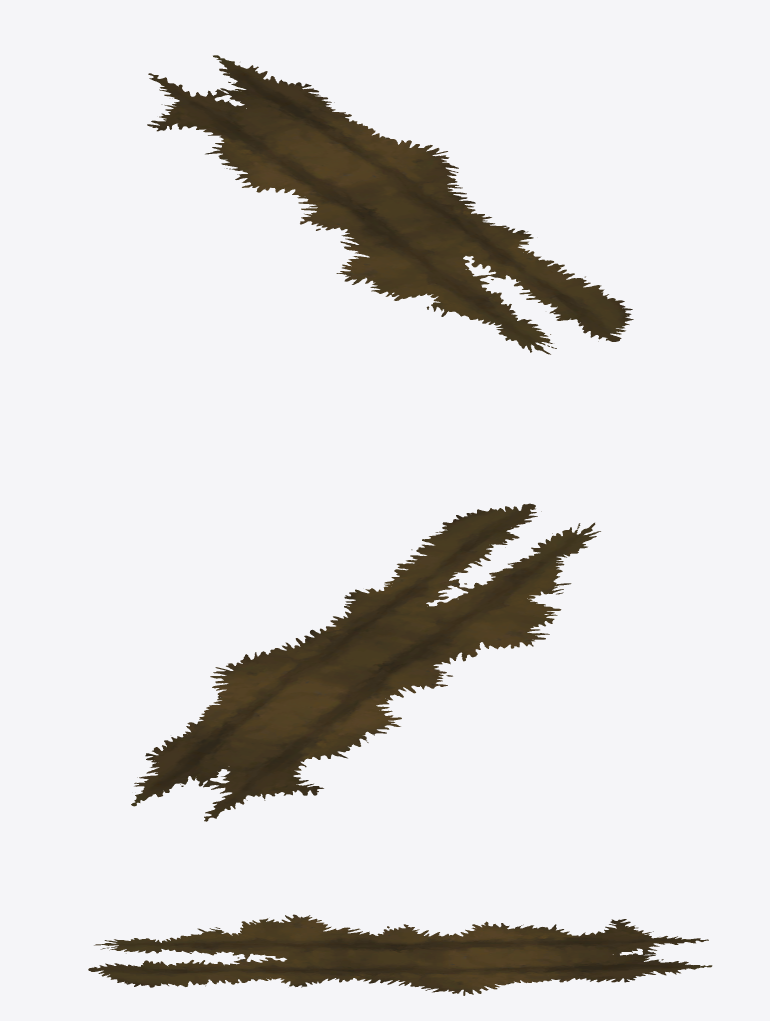
Rendered from road_straight_rock1b.fbx.
3 views of the same model, one above another, from view 1: azimuth 30°, elevation 25°; view 2: azimuth 150°, elevation 25°; view 3: azimuth 270°, elevation 25° (orthographic). The views are drawn at different scales.
Parts seen in each view (by area): view 1: obj0.075; view 2: obj0.075; view 3: obj0.075.
Part boxes in pixels (left/top/right/bottom): obj0.075: left=147, top=55, right=633, bottom=354; obj0.075: left=131, top=503, right=600, bottom=821; obj0.075: left=88, top=914, right=712, bottom=995.
Size of the model in its own units: 8.37 by 4.71e-06 by 24.47.
